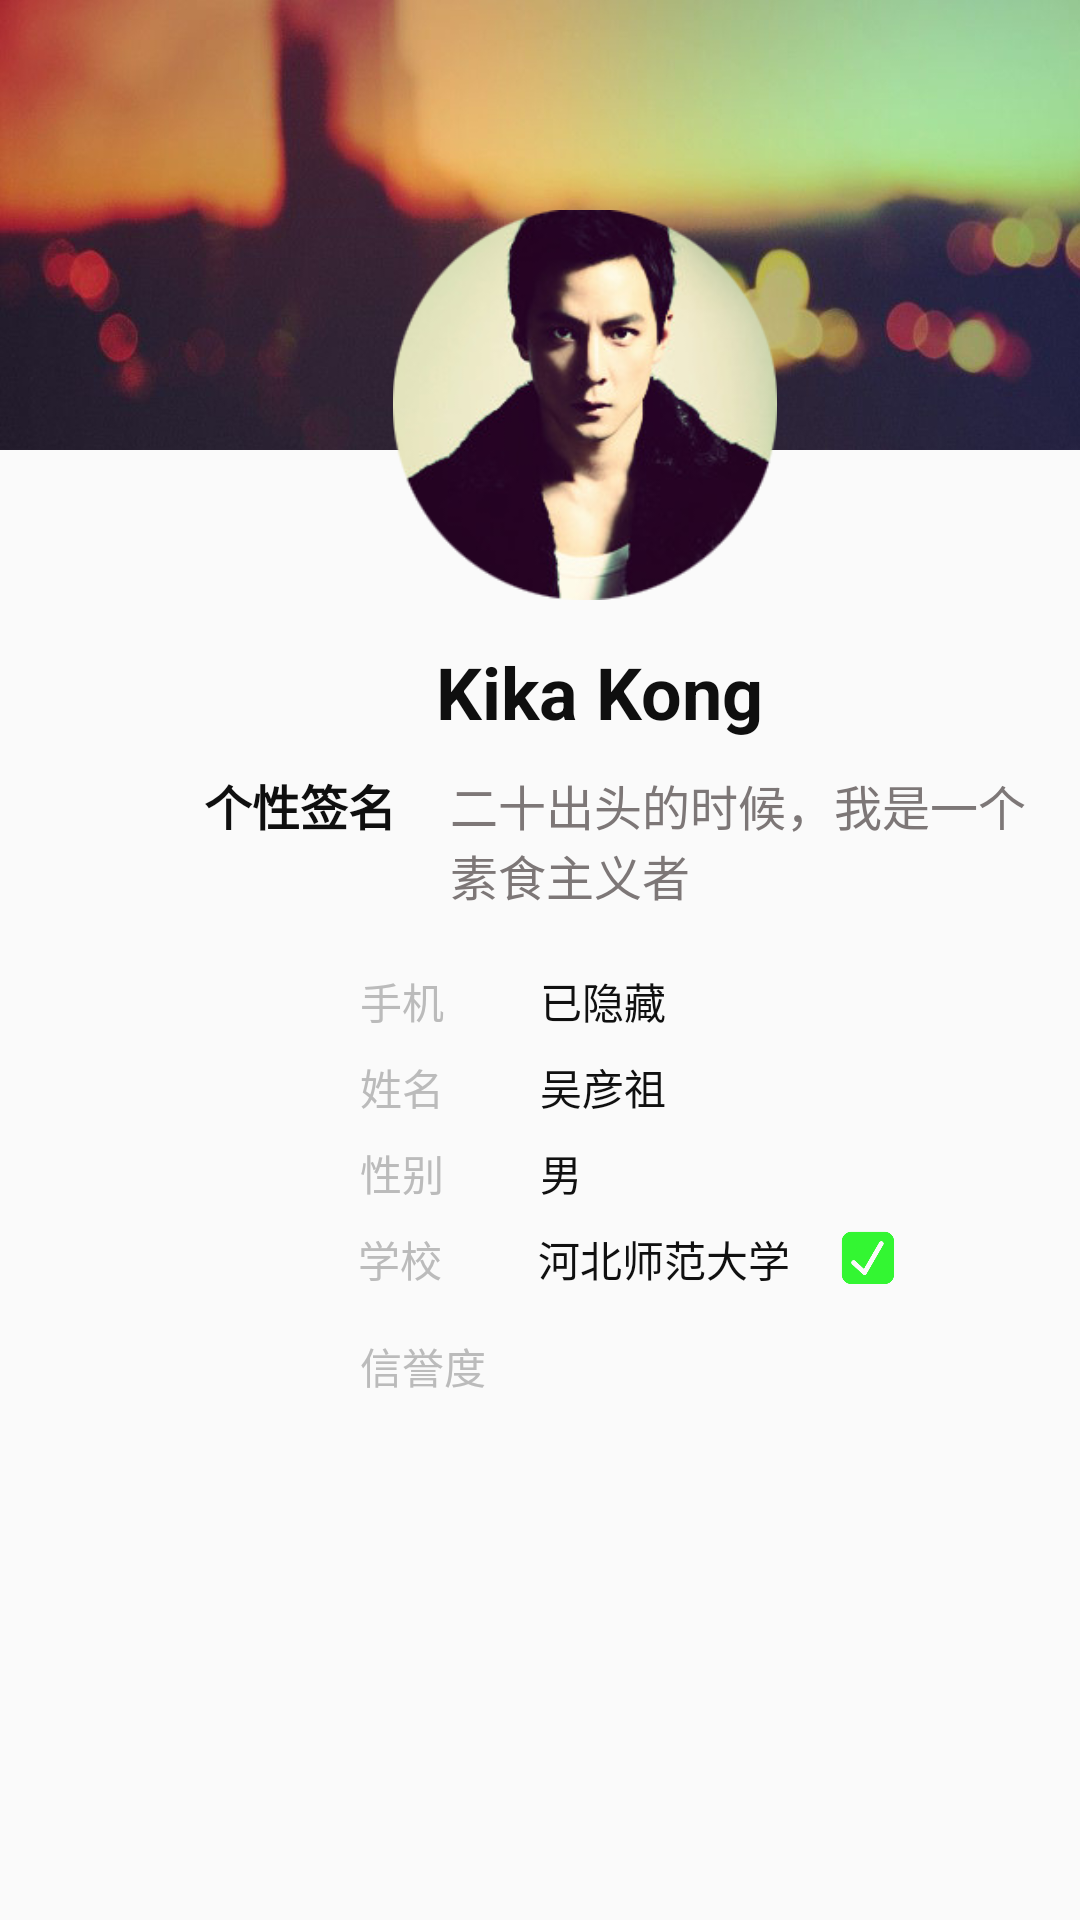

Icon click points for this 1080×1920 phone screenshot, format (x,y):
authenok: (868,1258)
